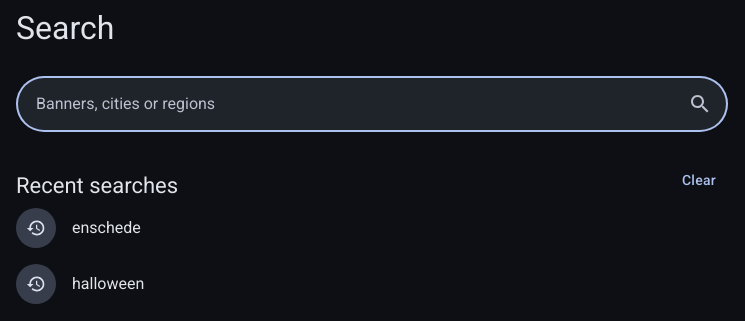
Test: search page lists and clears recent searches
Click the button "Clear" at (699, 180), box x1=670 y1=160 x2=728 y2=200
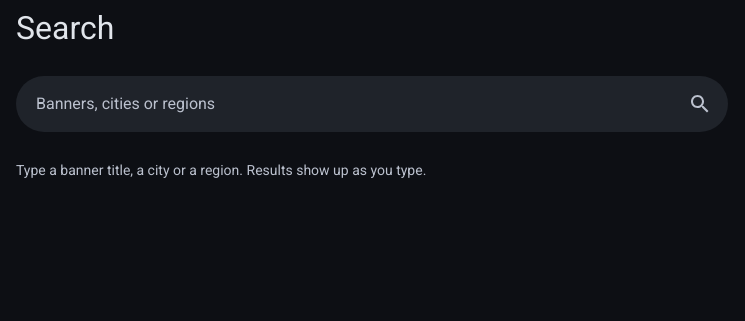
Result: the link "halloween" is gone
